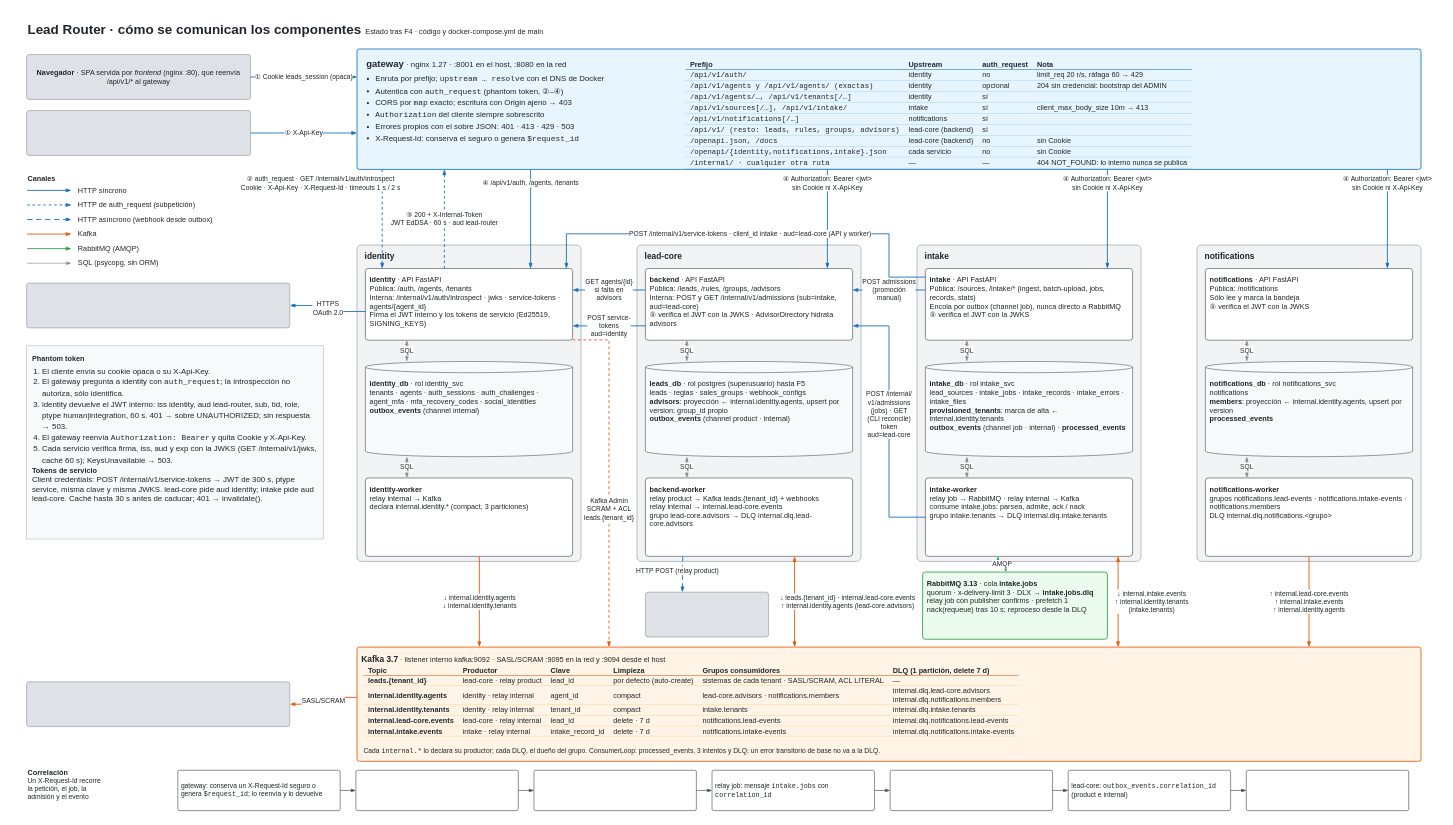
This 1453x825 diagram has some shape labels left out. The shapes that lost their labels are listed below. From the top down, each one's box as (x1, y1, x2, y2) in pixels, then its label:
(26, 110, 251, 155): Integración del cliente · X-Api-Key {agent_id}.{secreto} · p. ej. test-consumer
(26, 283, 290, 328): Proveedores OAuth Google · GitHub
(645, 592, 769, 637): Webhooks de clientes webhook_configs por tenant
(26, 681, 290, 727): Consumidores de leads.{tenant_id} sistemas de cada tenant (demo: test-consumer)
(355, 770, 518, 811): API: chassis.web lo pone en request_id_var y en cada línea de log
(533, 770, 696, 811): intake: intake_jobs.correlation_id y outbox_events.correlation_id
(890, 770, 1053, 811): intake-worker: cabecera X-Request-Id en la admisión y en el token de servicio
(1246, 770, 1409, 811): relay: sobre y cabecera Kafka correlation_id ; ConsumerLoop lo restaura
